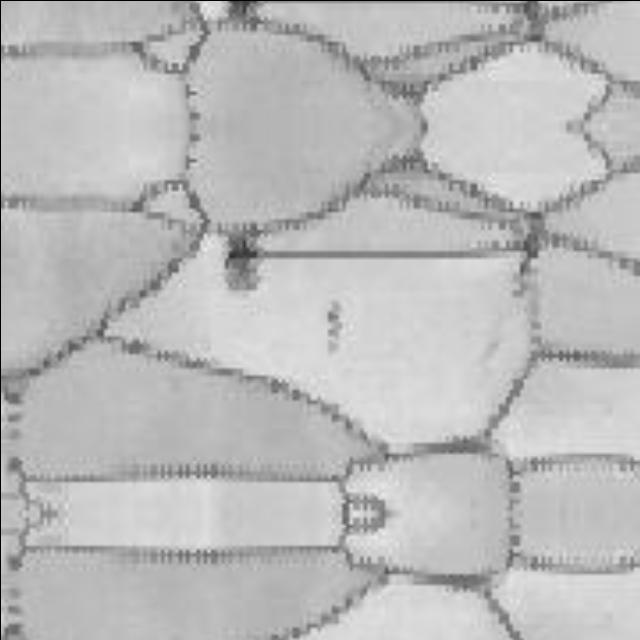good_void: (220, 226, 269, 293), (221, 0, 269, 27), (325, 301, 347, 355)
